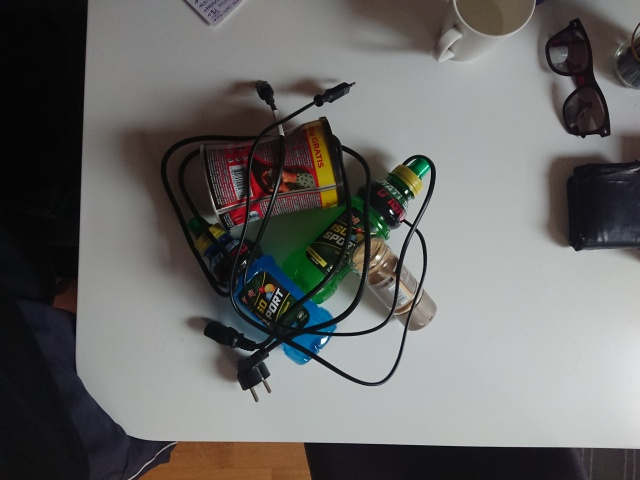Kotanyi Garlic Granules 70g: (346, 233, 439, 333)
Nescafe Classic 225g: (197, 115, 354, 233)
Vindi Iso Sport Forest Strawberries 500mL: (186, 215, 340, 367)
Vindi Iso Sport Lemon-Grapefruit 500mL: (278, 155, 433, 306)
